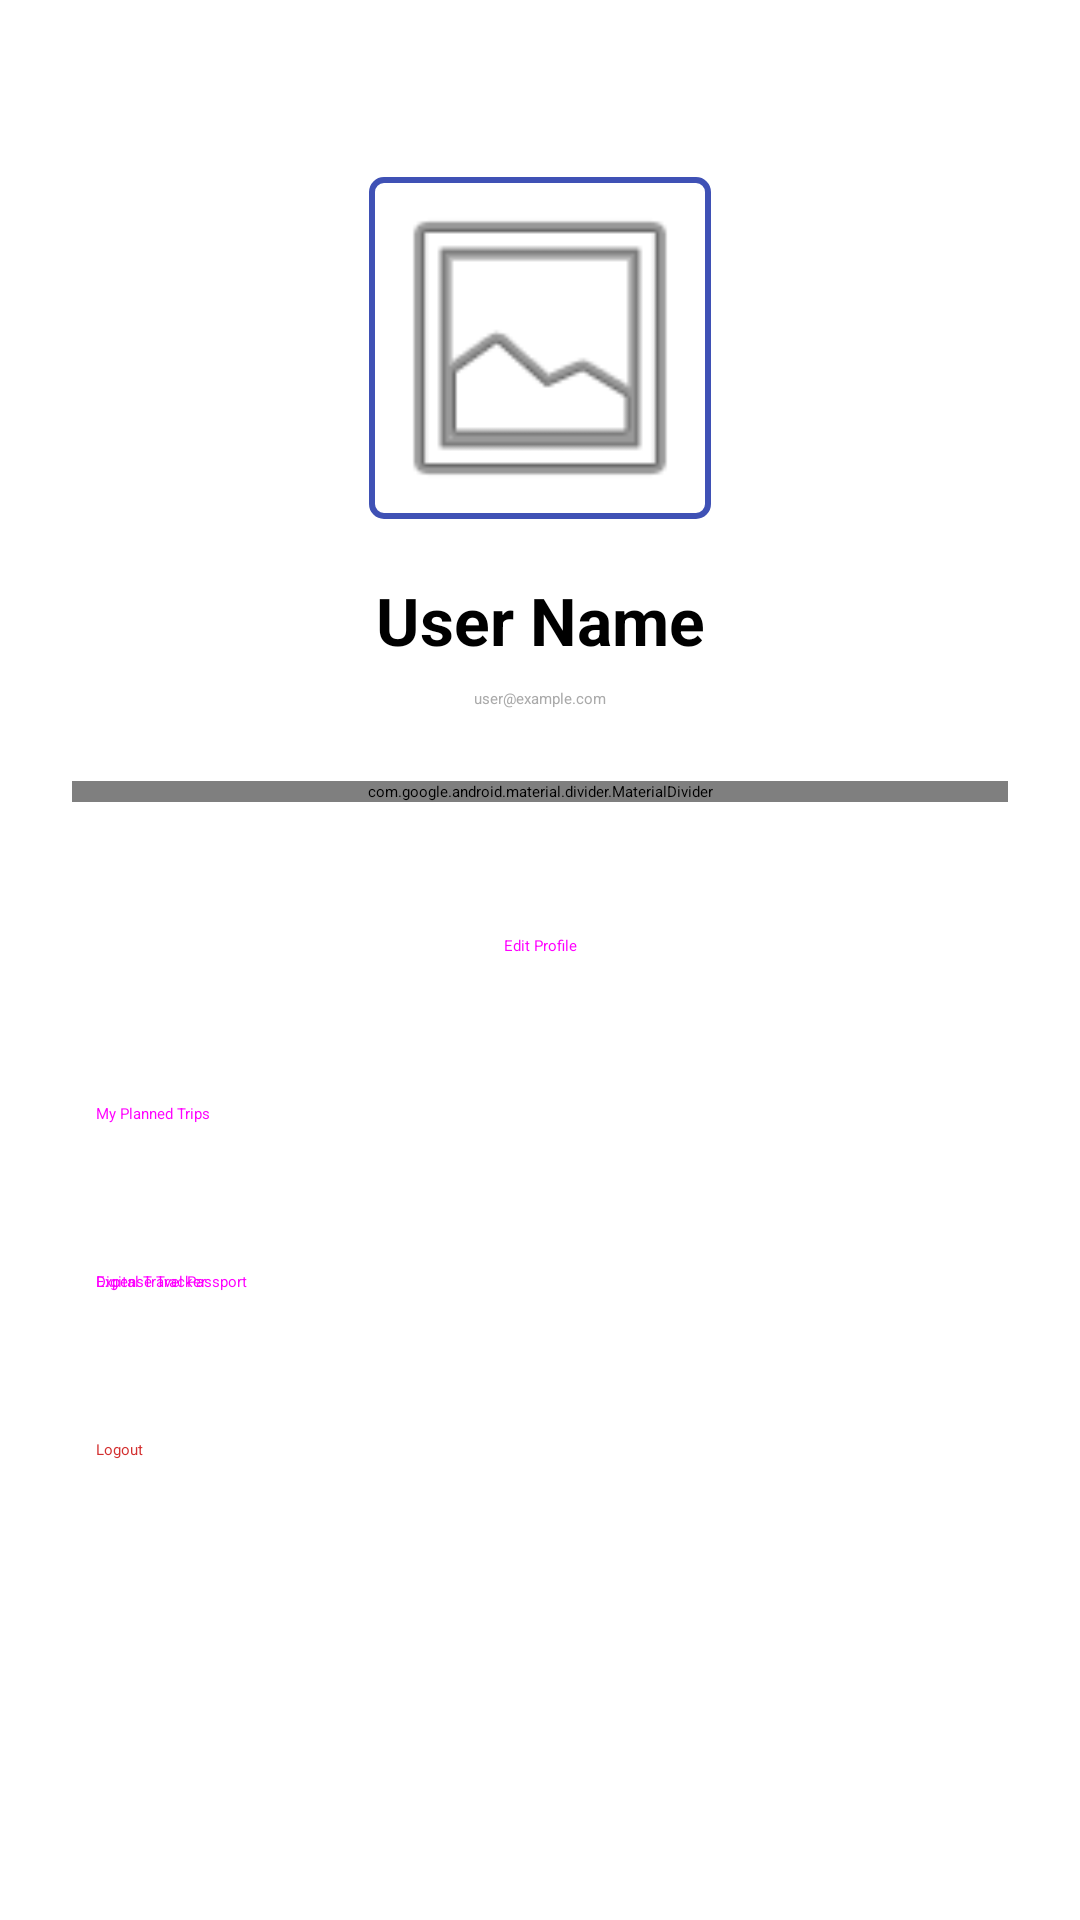

Icon bounding boxes for this 1080*1920 phone screenshot, format (x1, y1, x2, y2):
gallery: (369, 177, 711, 519)
